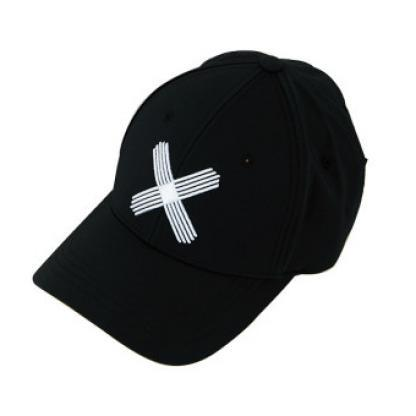cap: (26, 40, 372, 376)
